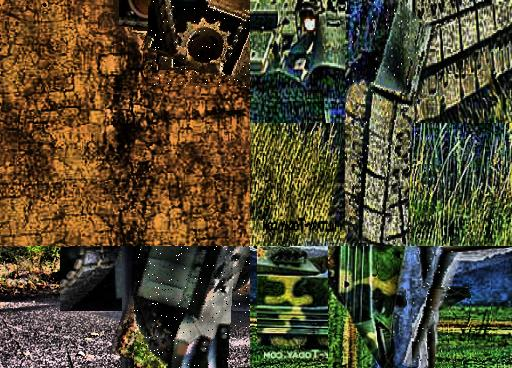tanks: (346, 1, 435, 245), (135, 247, 251, 368), (329, 247, 405, 368), (150, 1, 251, 88), (414, 247, 453, 365)
